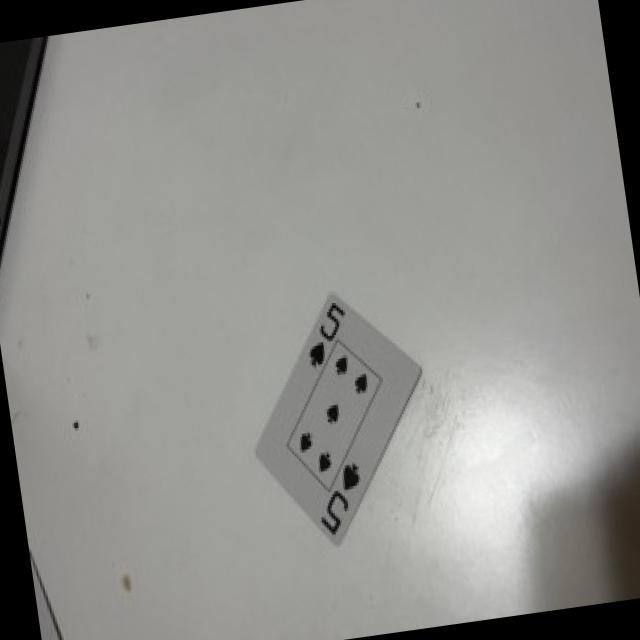5 of spades: (256, 295, 420, 543)
